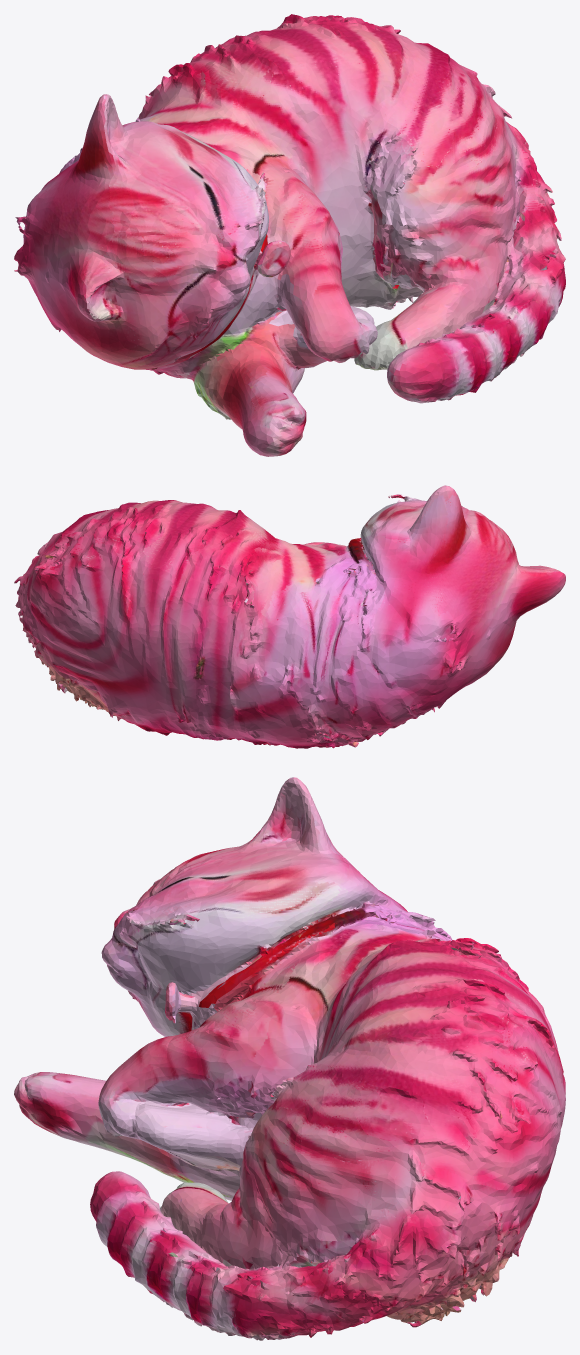
Rendered from cat_textured.glb.
3 renders of one model, top to bottom at view 1: azimuth 30°, elevation 25°; view 2: azimuth 150°, elevation 25°; view 3: azimuth 270°, elevation 25°, orthographic. The views are drawn at different scales.
Visible parts, largest first — view 1: temp_mesh.ply; view 2: temp_mesh.ply; view 3: temp_mesh.ply.
Boxes of the visible parts, x1=… form: temp_mesh.ply: x1=14, y1=14, x2=565, y2=456; temp_mesh.ply: x1=14, y1=485, x2=565, y2=748; temp_mesh.ply: x1=14, y1=777, x2=565, y2=1340.
Size of the model in its own units: 1.95 by 1.1 by 1.53.
Materials: 1 (1 with a texture image).
